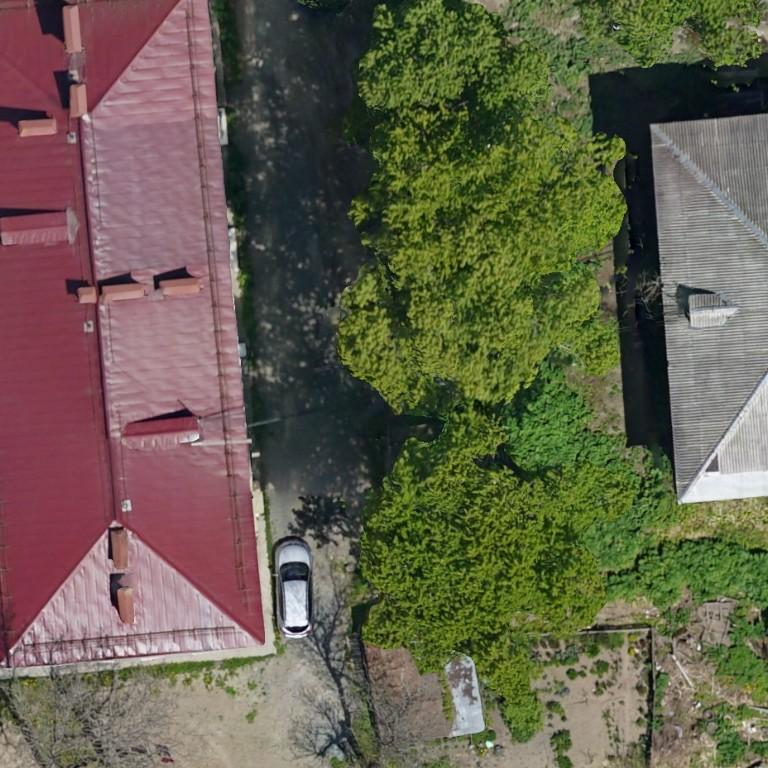hogweed: (505, 366, 625, 470), (609, 539, 767, 607), (590, 470, 665, 563), (719, 601, 767, 699)
